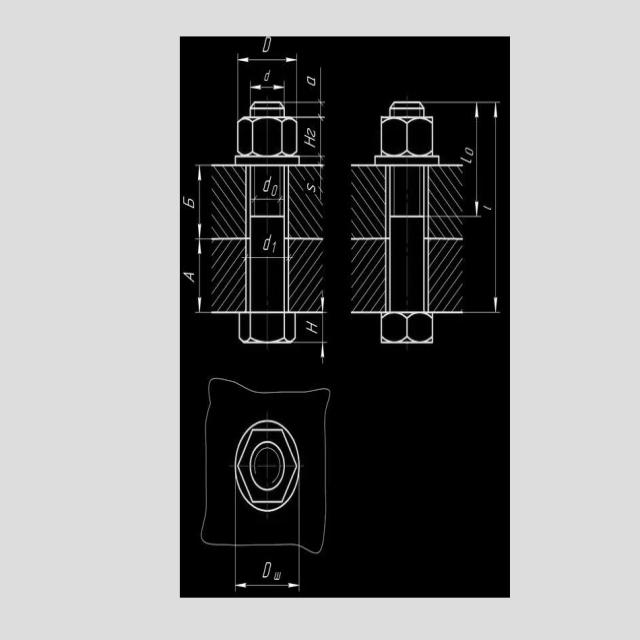marking_line: (466, 98, 501, 316), (233, 547, 301, 593), (235, 54, 299, 101), (193, 163, 211, 315), (301, 66, 324, 158), (465, 101, 480, 219), (285, 68, 325, 105), (193, 163, 211, 241), (194, 237, 212, 315), (300, 113, 326, 153), (295, 340, 329, 368), (249, 80, 286, 100), (318, 291, 327, 364), (252, 195, 283, 204), (251, 255, 283, 260)
